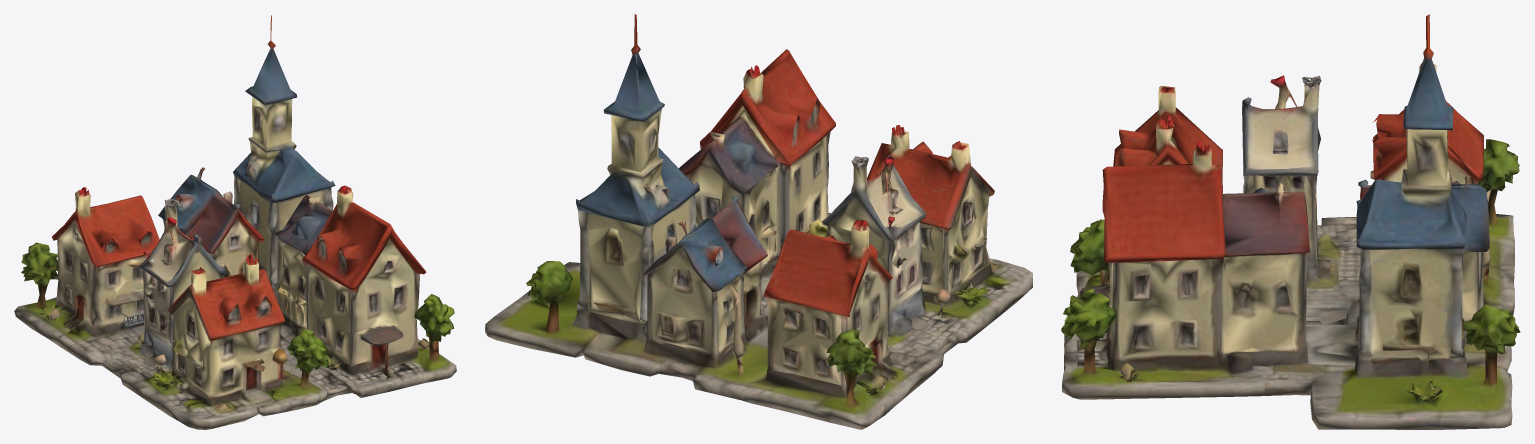
File: city_harbor_town.glb
3 views of the same model, side by side, from view 1: azimuth 30°, elevation 25°; view 2: azimuth 150°, elevation 25°; view 3: azimuth 270°, elevation 25° (orthographic). The views are drawn at different scales.
Visible parts, largest first — view 1: tripo_node_c65bf613-4c2b-4cfc-bb86-8de02cf0efc7; view 2: tripo_node_c65bf613-4c2b-4cfc-bb86-8de02cf0efc7; view 3: tripo_node_c65bf613-4c2b-4cfc-bb86-8de02cf0efc7.
Part boxes in pixels (bbox=[...]): tripo_node_c65bf613-4c2b-4cfc-bb86-8de02cf0efc7: bbox=[14, 15, 456, 429]; tripo_node_c65bf613-4c2b-4cfc-bb86-8de02cf0efc7: bbox=[485, 14, 1032, 429]; tripo_node_c65bf613-4c2b-4cfc-bb86-8de02cf0efc7: bbox=[1061, 14, 1520, 429].
Bounding box in the file's own units: 0.9796 × 0.7816 × 0.9157.
1 material, 1 textured.
